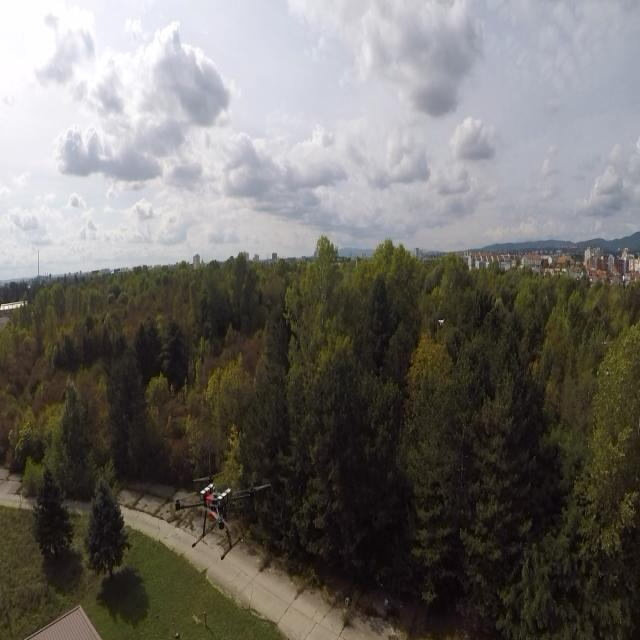UAV: (173, 469, 273, 562)
